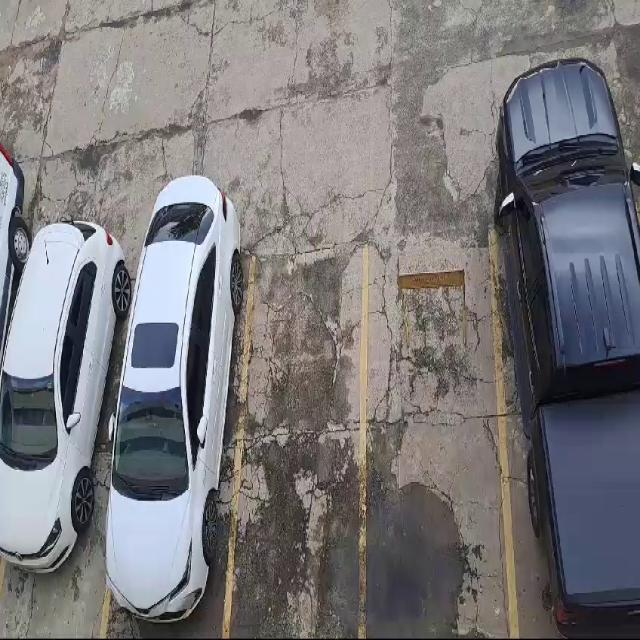empty: (362, 233, 514, 637), (223, 256, 365, 639)
notEmpty: (491, 214, 639, 636), (105, 257, 254, 639), (0, 254, 143, 639)
